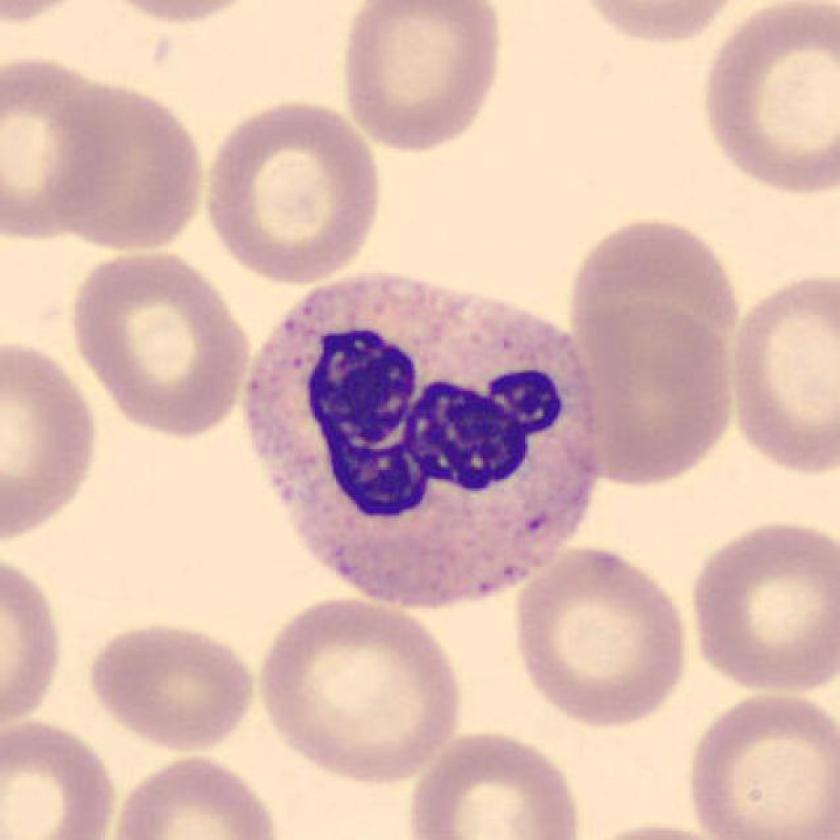neutrophil: (245, 274, 593, 606)
